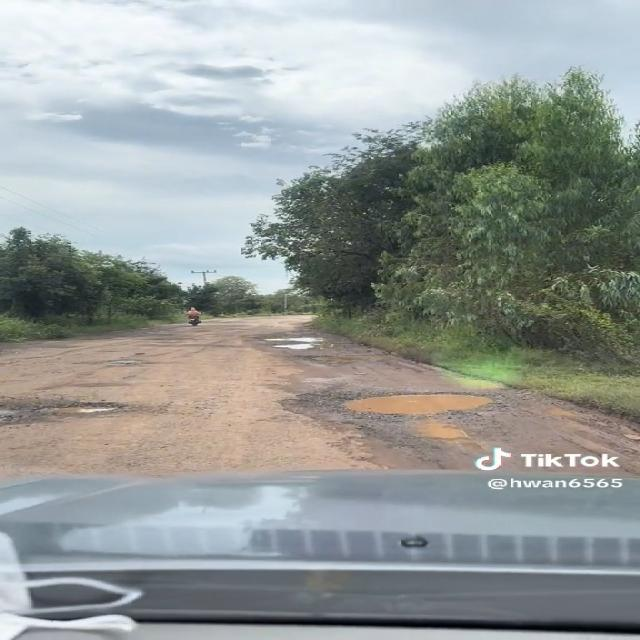Poth-hole: (252, 408, 403, 465)
